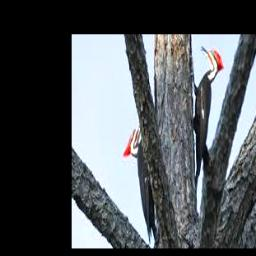Woodpecker: (190, 46, 223, 187), (123, 115, 156, 243)
